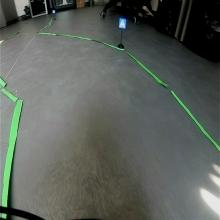crosswalk: (118, 17, 126, 30)
